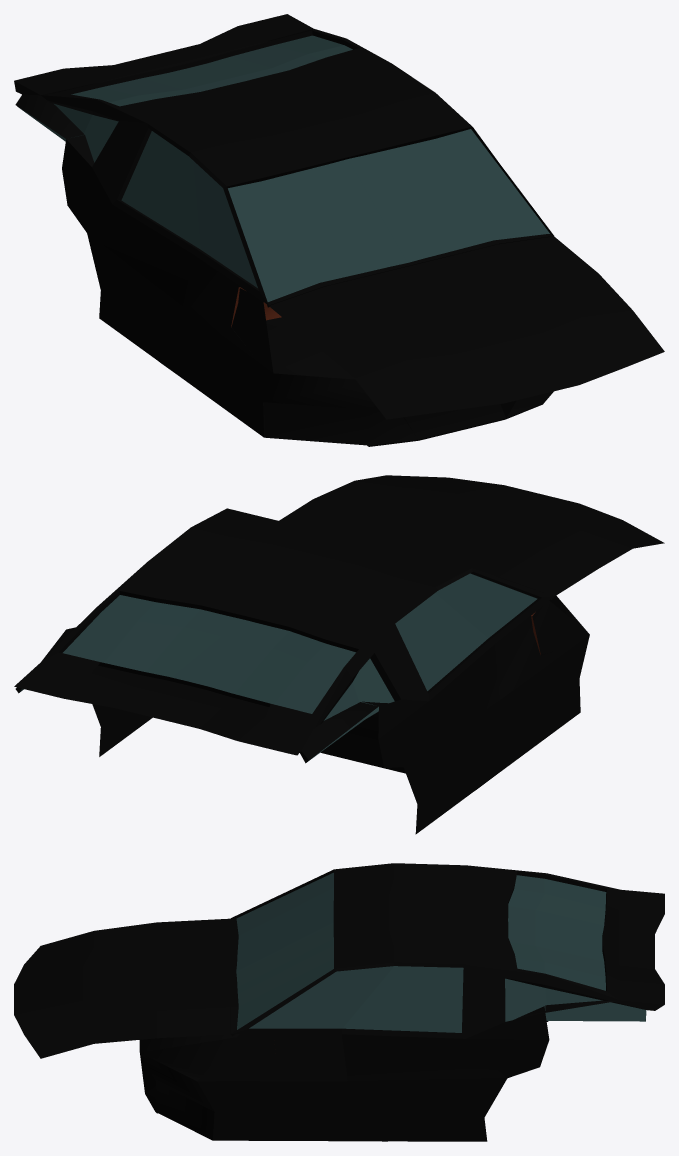
The model's file is Car Interior.fbx.
3 views of the same model, one above another, from view 1: azimuth 30°, elevation 25°; view 2: azimuth 150°, elevation 25°; view 3: azimuth 270°, elevation 25° (orthographic). The views are drawn at different scales.
Parts seen in each view (by area): view 1: Cube.002; view 2: Cube.002; view 3: Cube.002.
Part boxes in pixels (box(x1,y1,x2,y2)): Cube.002: box(14, 14, 664, 446); Cube.002: box(14, 475, 664, 834); Cube.002: box(14, 863, 664, 1141).
Bounding box in the file's own units: 452 × 271 × 968.
